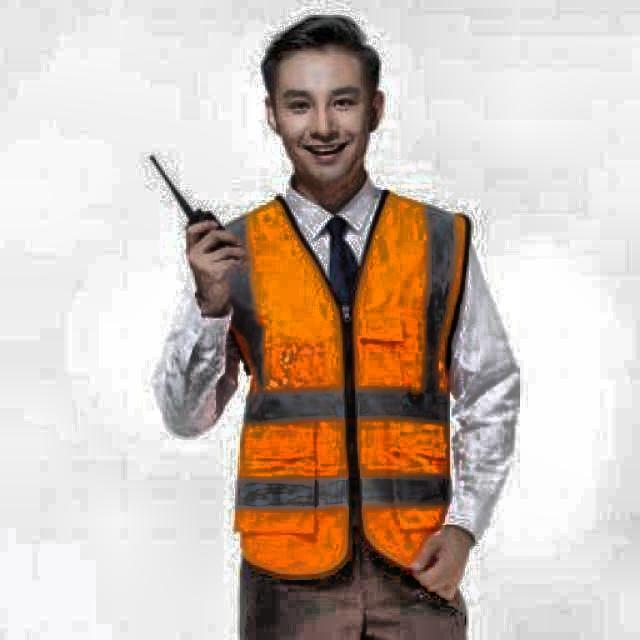safety_jacket: (231, 191, 464, 574)
